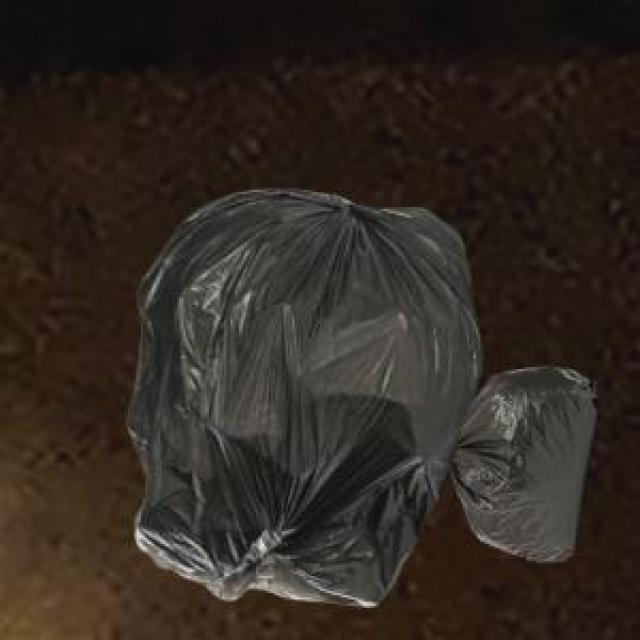Trashbag: (111, 173, 480, 618), (442, 359, 606, 578)
